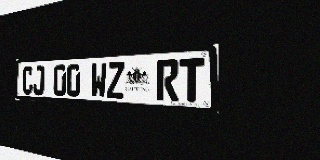0: (66, 64, 81, 97), (53, 64, 66, 96)
C: (22, 66, 33, 95)
J: (33, 66, 44, 95)
R: (156, 59, 179, 101)
T: (179, 58, 204, 102)
W: (91, 62, 107, 98)
Z: (107, 62, 125, 99)
